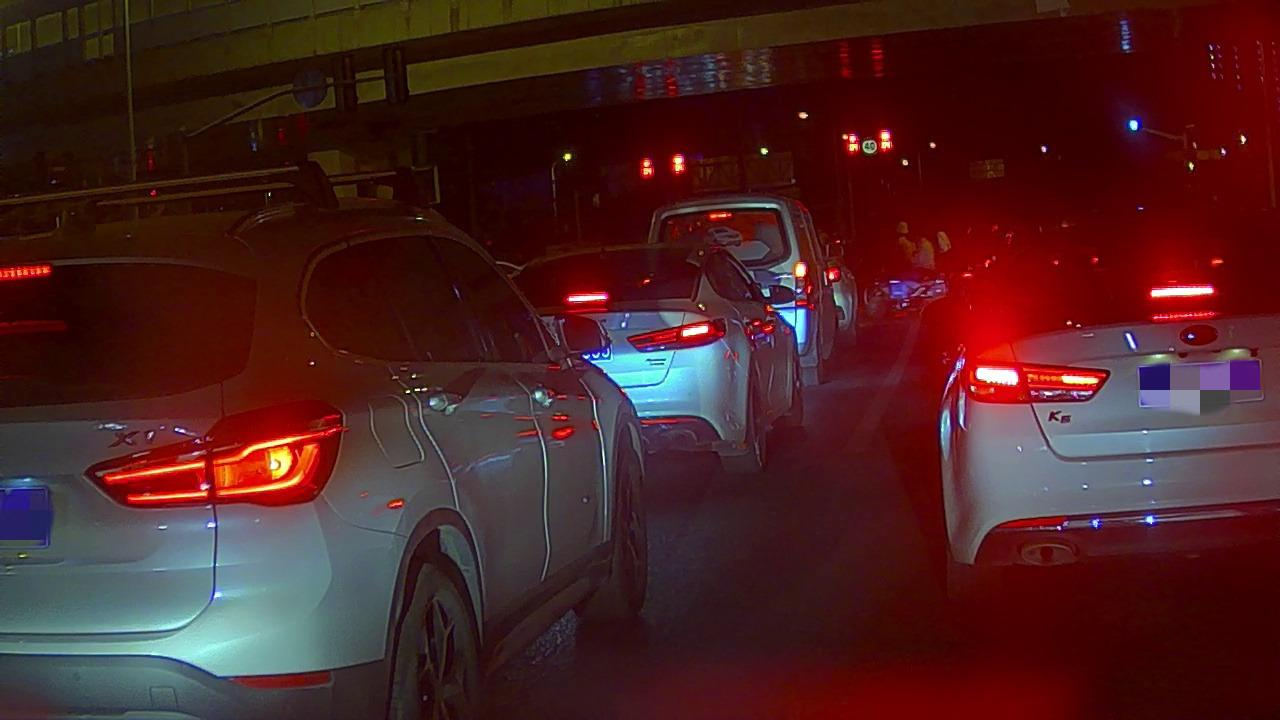traffic_light: (667, 149, 687, 180), (875, 125, 895, 156), (637, 155, 655, 180), (844, 131, 862, 156)
